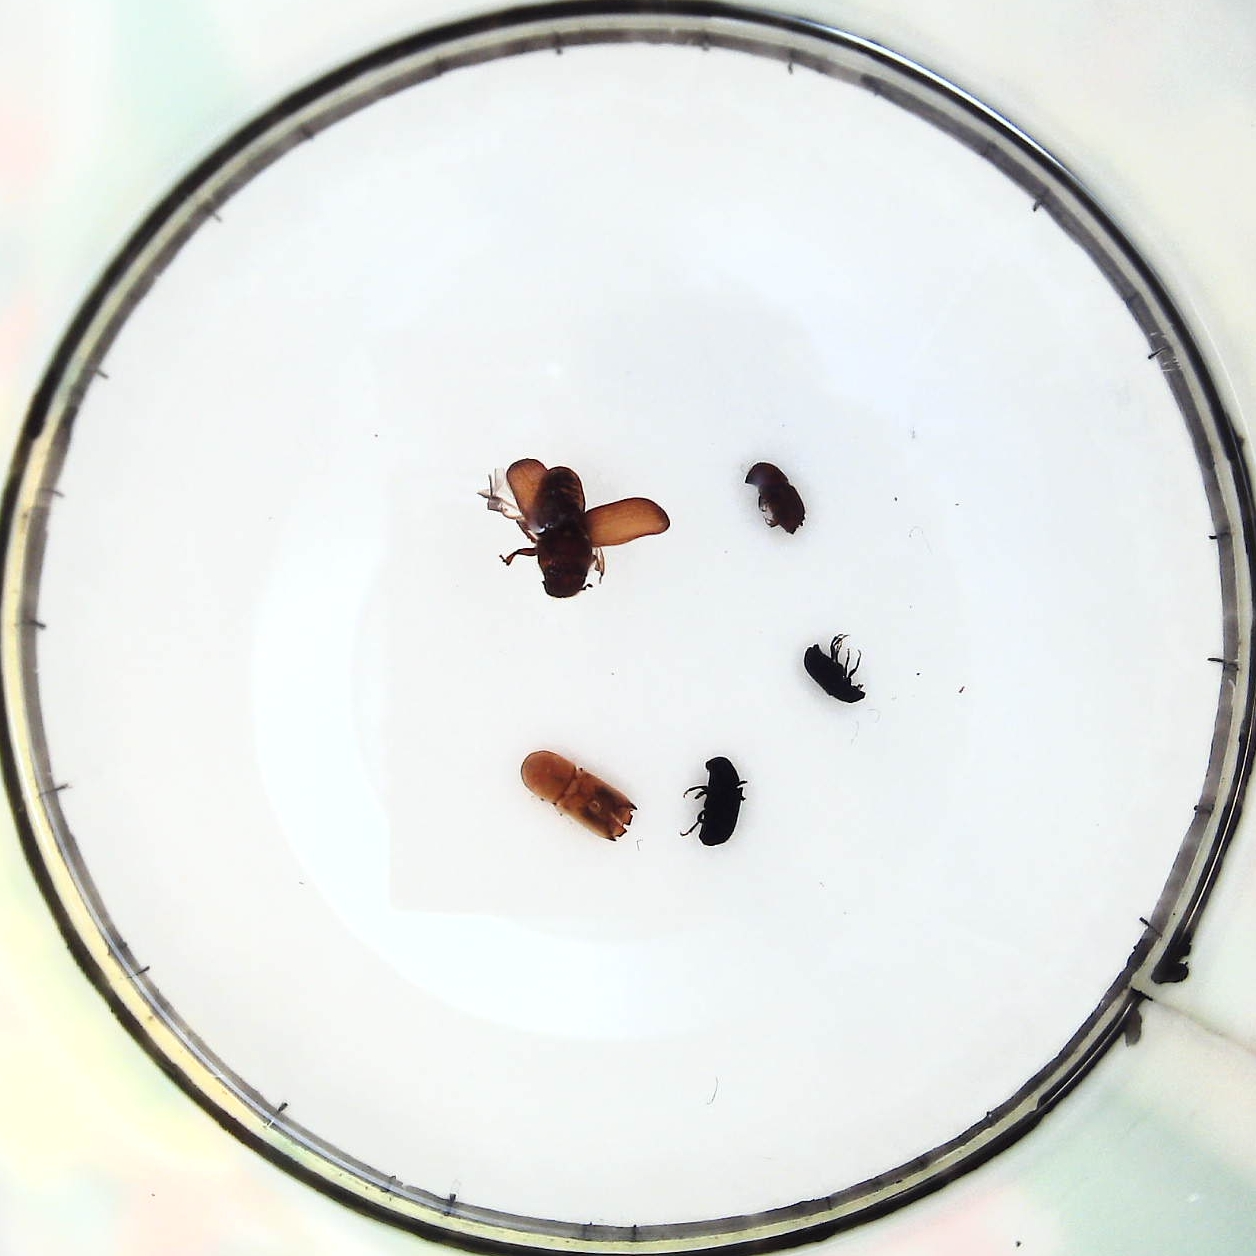Boerner: (516, 746, 636, 840)
Leconte: (482, 455, 674, 599)
Linnaeus: (745, 464, 811, 533)
armandi: (682, 753, 746, 849)
coleoptera: (803, 631, 865, 707)
